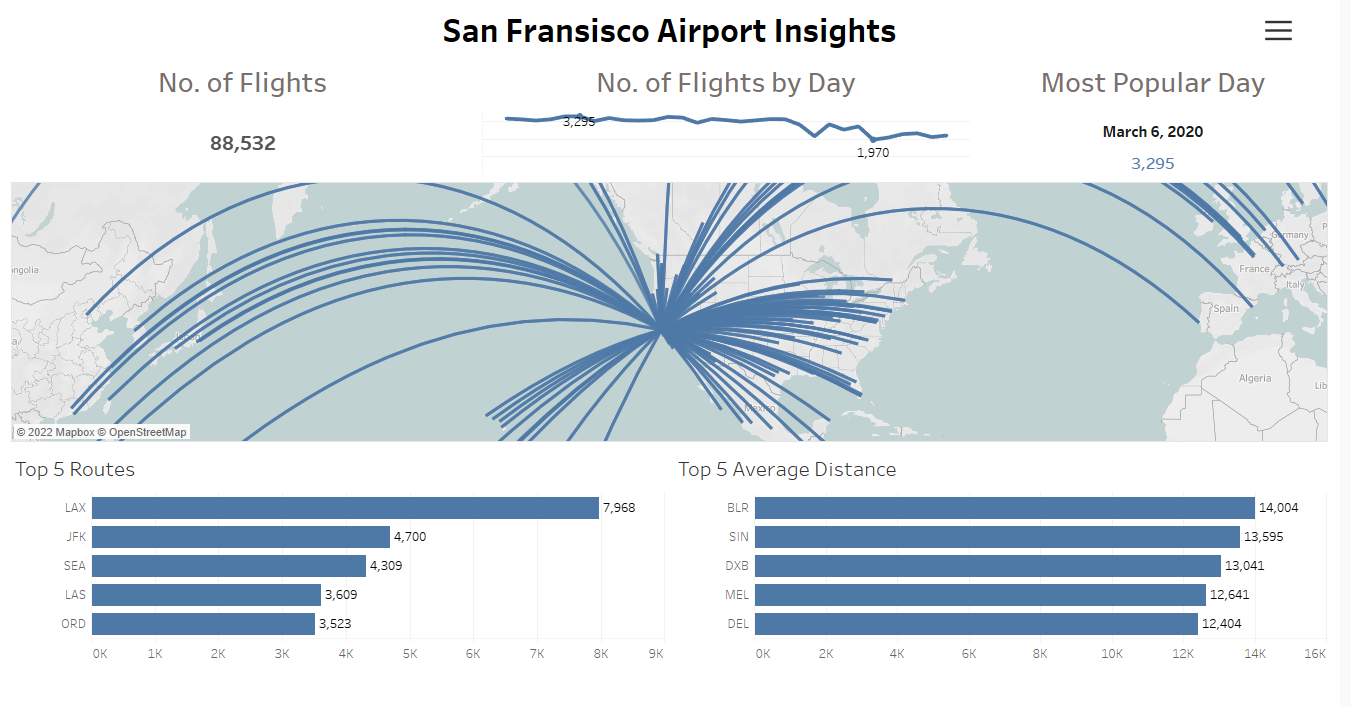

What the dashboard file says about the page in this screenshot:
{"tool":"tableau","page":{"name":"San Fransisco Airport Insights","canvas":[1000,1000],"units":"permille","ordinal":0},"visuals":[{"type":"text","box":[7.2,13.5,985.7,70.6]},{"type":"dashboard-object","box":[943.5,27,21.5,40.5]},{"type":"worksheet","title":"Number of Flights","mark":"Automatic","box":[7.2,84.1,350.6,165.7]},{"type":"worksheet","title":"Number of Flights by Day","mark":"Automatic","rows":["Calculation_321162982222221313"],"cols":["Date"],"box":[357.7,84.1,368.6,165.7]},{"type":"worksheet","title":"Most Popular Day","mark":"Text","cols":["Date"],"box":[726.3,84.1,266.5,165.7]},{"type":"worksheet","title":"Map","mark":"Automatic","box":[7.2,249.7,985.7,361.5]},{"type":"filter","title":"Map","param":"[federated.1f1k6xx1o3z2so1cutxgo1jqkw24].[sum:Calculation_321162982233292806:qk]","box":[788.3,398.7,143.5,93.5]},{"type":"filter","title":"Routes","param":"[federated.1f1k6xx1o3z2so1cutxgo1jqkw24].[none:Route:nk]","box":[788.3,492.2,143.5,175.1]},{"type":"worksheet","title":"Routes","mark":"Automatic","rows":["Calculation_321162982229266434"],"cols":["Calculation_321162982222221313"],"box":[7.2,611.2,492.8,375.3]},{"type":"worksheet","title":"Distance","mark":"Automatic","rows":["Calculation_321162982229266434"],"cols":["Calculation_321162982233292806"],"box":[500,611.2,492.8,375.3]}]}

Visuals, with their boxes on the dashboard's canvas, which has no fixed pixel size, in thousandths of its width and height (x1, y1, x2, y2). These are canvas units, not pixel positions in the 1351x707 screenshot, which may show the page scaled, cropped or inside an application window:
text: [7, 14, 993, 84]
dashboard-object: [944, 27, 965, 68]
"Number of Flights" worksheet: [7, 84, 358, 250]
"Number of Flights by Day" worksheet: [358, 84, 726, 250]
"Most Popular Day" worksheet (Text marks): [726, 84, 993, 250]
"Map" worksheet: [7, 250, 993, 611]
"Map" filter: [788, 399, 932, 492]
"Routes" filter: [788, 492, 932, 667]
"Routes" worksheet: [7, 611, 500, 986]
"Distance" worksheet: [500, 611, 993, 986]
